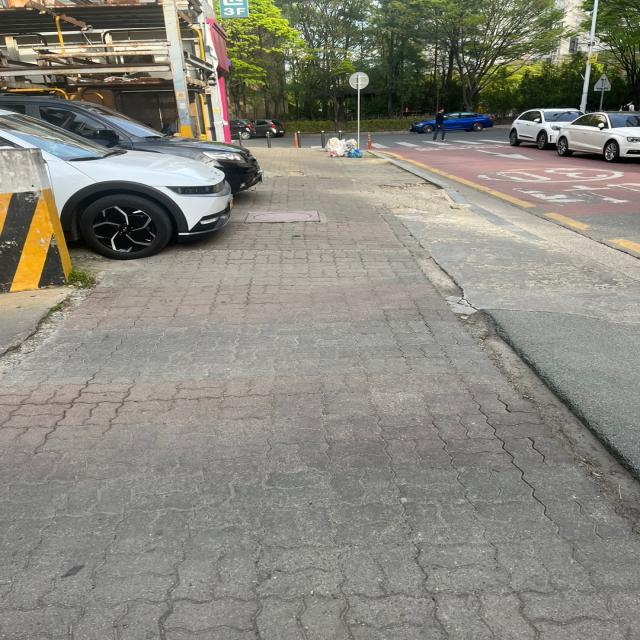Sewer Cover: (242, 202, 330, 235)
